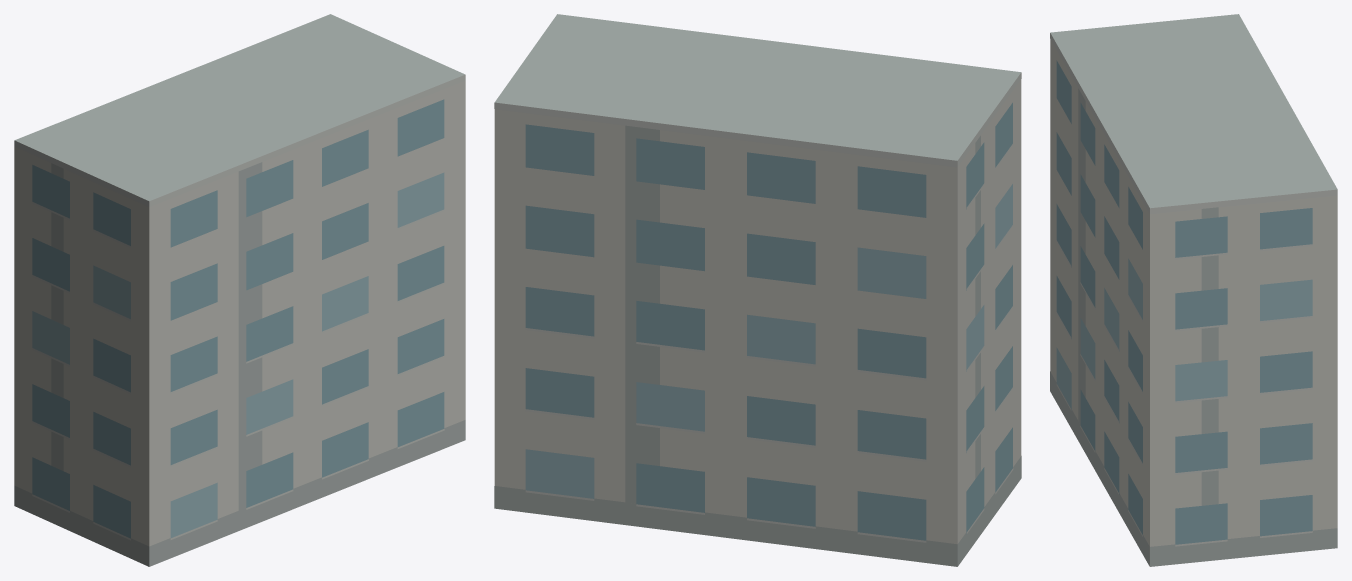
The model's file is survey-upis-32976757.glb.
3 renders of one model, left to right at view 1: azimuth 30°, elevation 25°; view 2: azimuth 150°, elevation 25°; view 3: azimuth 270°, elevation 25°, orthographic. The views are drawn at different scales.
Visible parts, largest first — view 1: survey-upis-32976757.tmp; view 2: survey-upis-32976757.tmp; view 3: survey-upis-32976757.tmp.
Part boxes in pixels (x1,y1,x2,y2): survey-upis-32976757.tmp: (14,14,465,566); survey-upis-32976757.tmp: (494,14,1021,566); survey-upis-32976757.tmp: (1050,14,1337,566).
Size of the model in its own units: 17.32 by 14.9 by 10.84.
